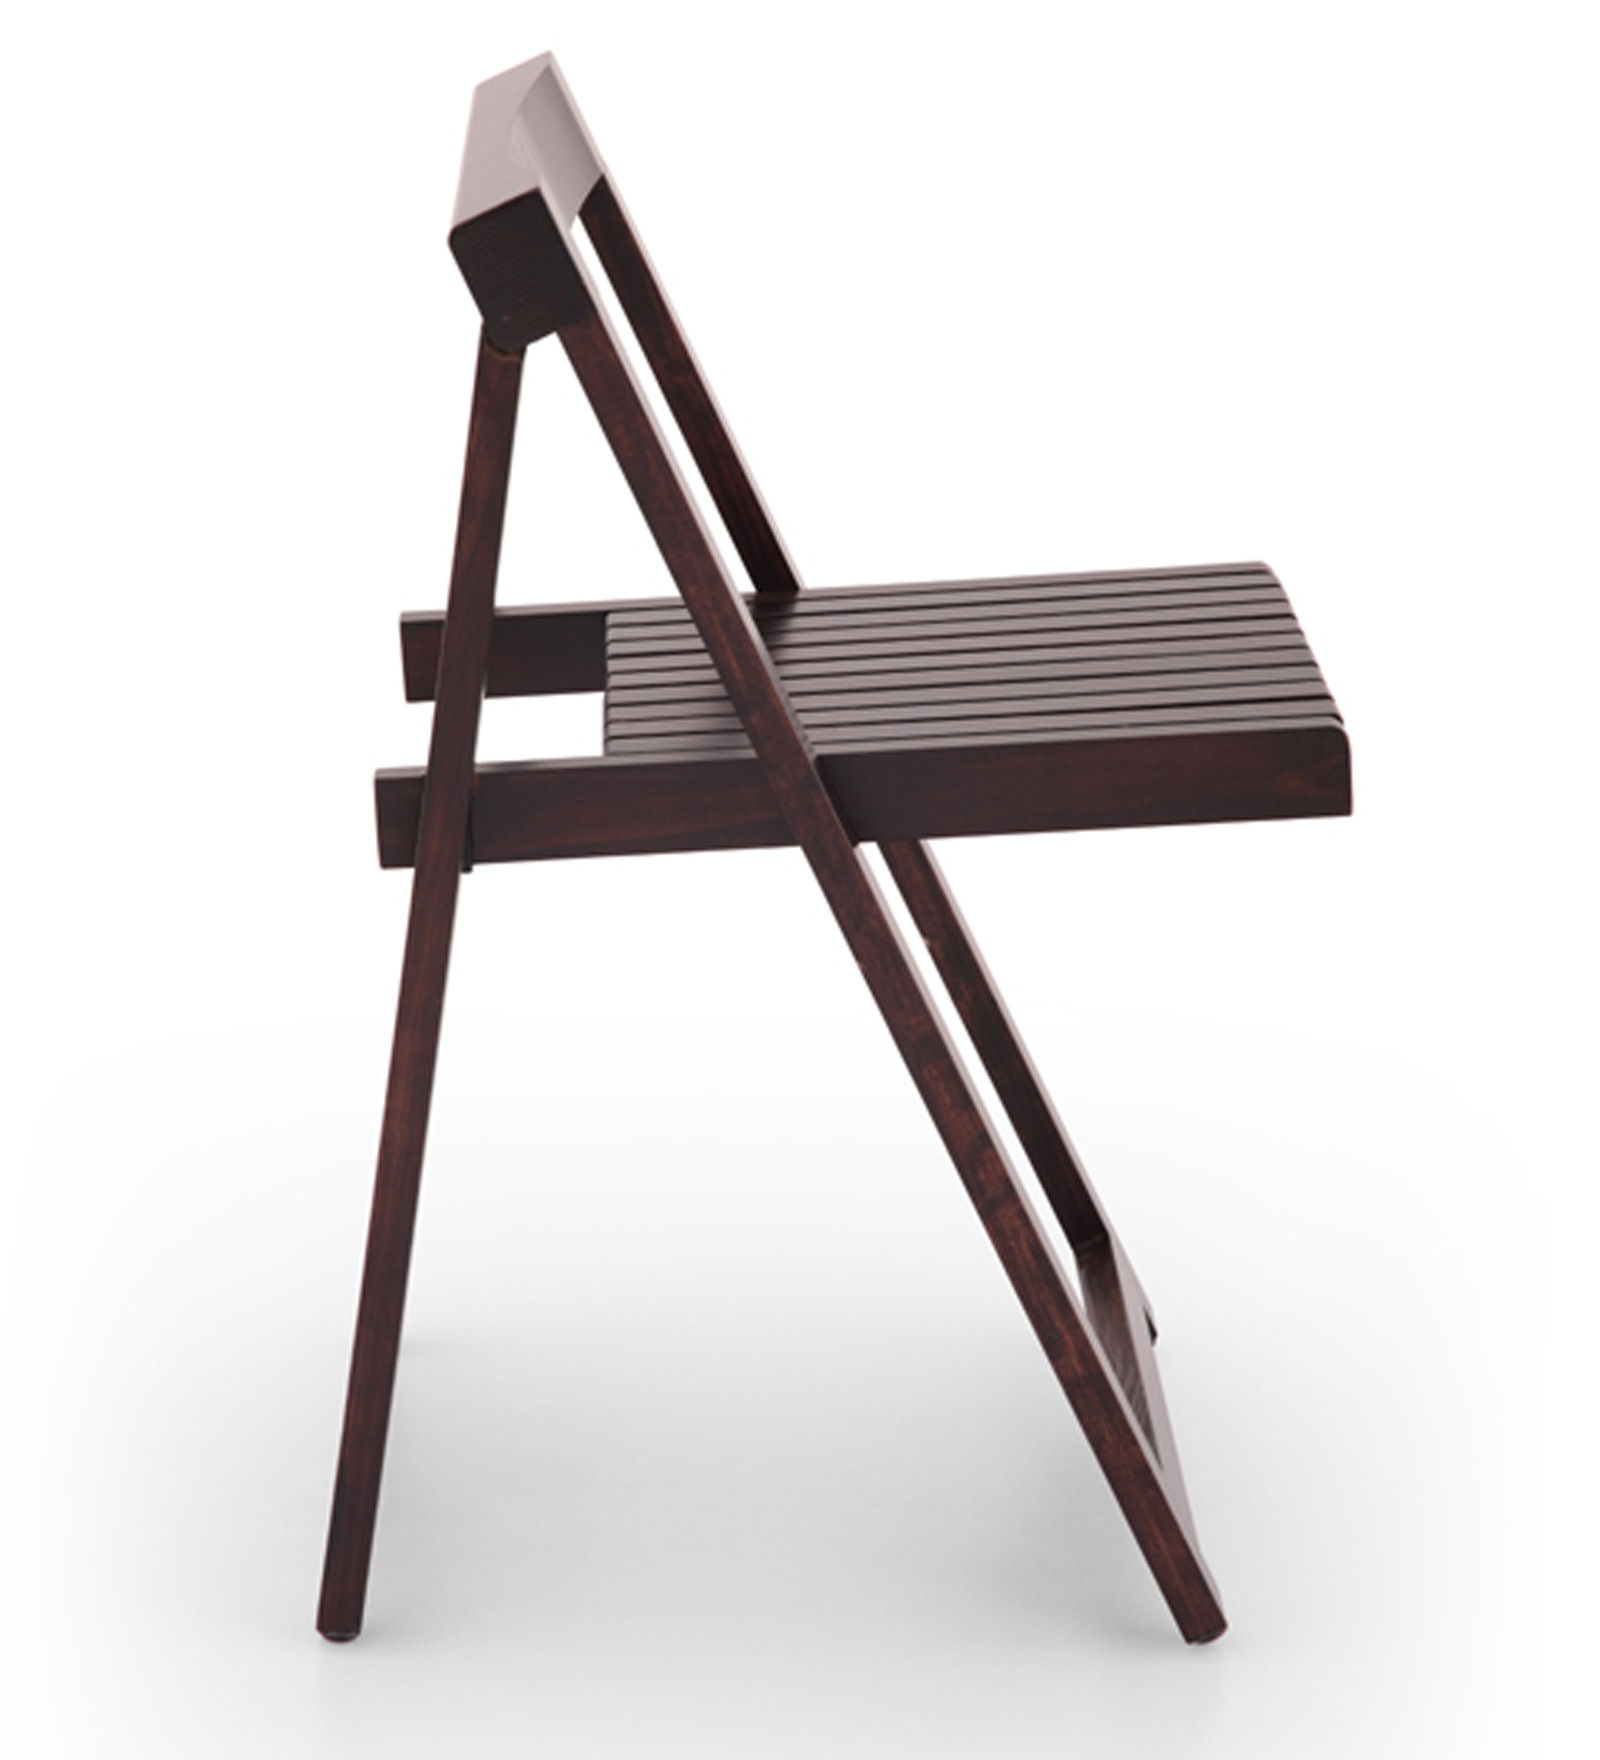Foldable Dining Chair in Ebony Finish by Ekbote Furniture: (279, 23, 1379, 1745)
